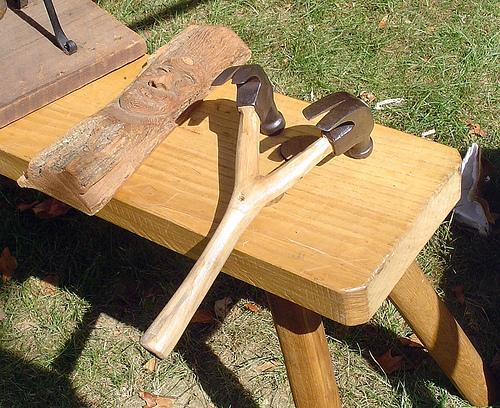hammer: (262, 89, 376, 196), (208, 61, 287, 169)
